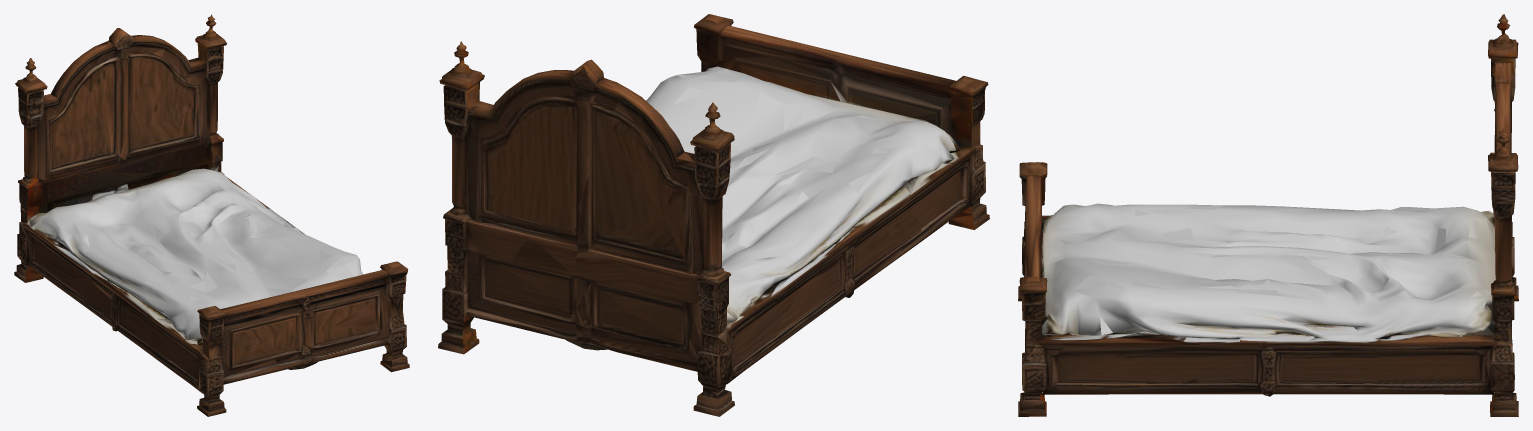
The model's file is bed.fbx.
The picture shows the model from 3 angles, left to right: view 1: azimuth 30°, elevation 25°; view 2: azimuth 150°, elevation 25°; view 3: azimuth 270°, elevation 25°; orthographic projection. The views are drawn at different scales.
Parts seen in each view (by area): view 1: tripo_node_cf47f7d4; view 2: tripo_node_cf47f7d4; view 3: tripo_node_cf47f7d4.
Boxes of the visible parts, <box> form: tripo_node_cf47f7d4: <box>14,14,409,416</box>; tripo_node_cf47f7d4: <box>438,14,989,416</box>; tripo_node_cf47f7d4: <box>1018,14,1518,416</box>.
Bounding box in the file's own units: 192 × 204 × 319.
Materials: 1 (1 with a texture image).
